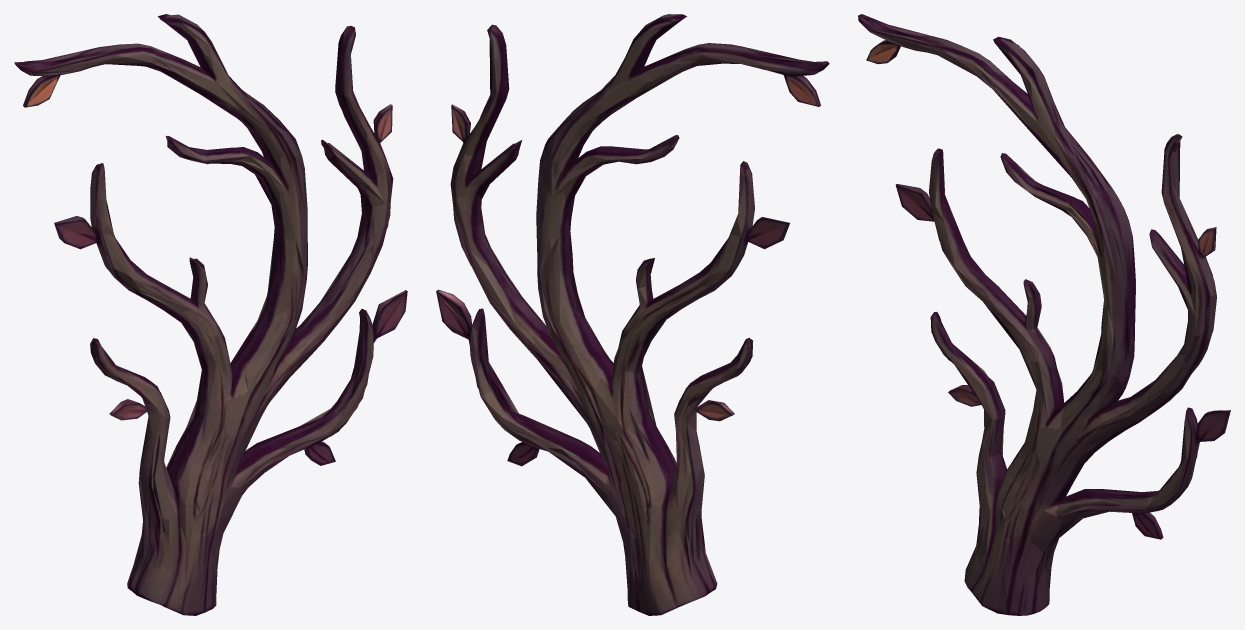
File: fennal-bois-6.glb
3 renders of one model, left to right at view 1: azimuth 30°, elevation 25°; view 2: azimuth 150°, elevation 25°; view 3: azimuth 330°, elevation 25°, orthographic. The views are drawn at different scales.
Parts seen in each view (by area): view 1: geometry_0; view 2: geometry_0; view 3: geometry_0.
Part boxes in pixels (x1,y1,x2,y2): geometry_0: (14, 14, 407, 615); geometry_0: (436, 14, 829, 615); geometry_0: (858, 14, 1230, 615).
Bounding box in the file's own units: 1.32 × 1.9 × 0.2207.
1 material, 1 textured.
